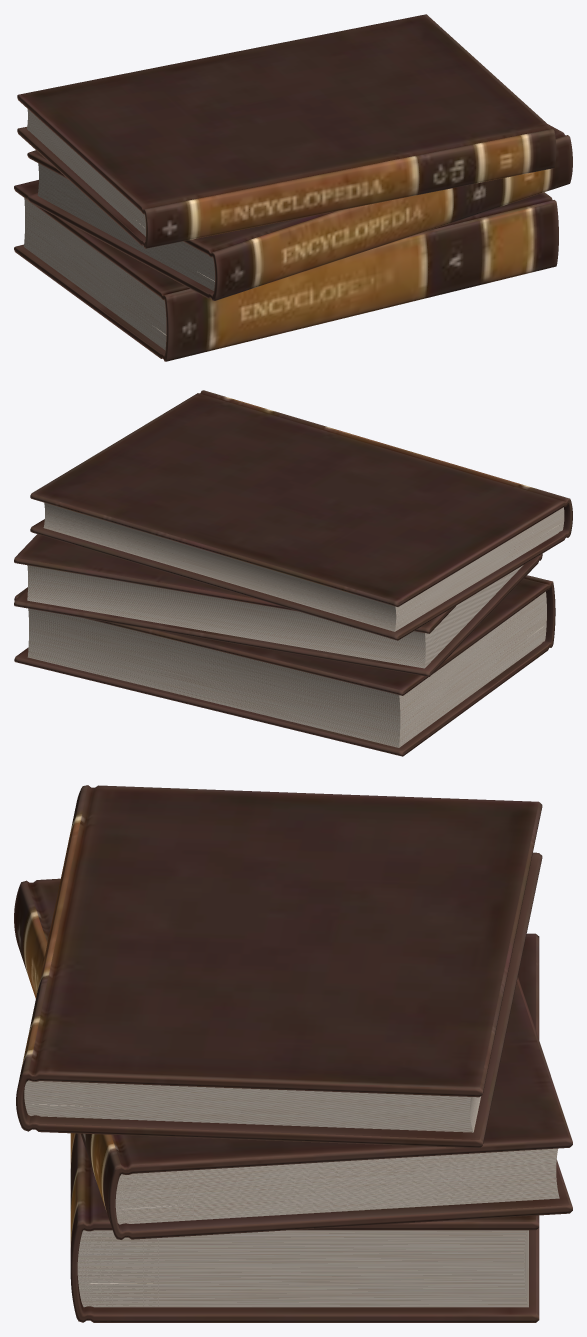
Rendered from book-stack.glb.
3 renders of one model, top to bottom at view 1: azimuth 30°, elevation 25°; view 2: azimuth 150°, elevation 25°; view 3: azimuth 270°, elevation 25°, orthographic. The views are drawn at different scales.
Parts seen in each view (by area): view 1: book_encyclopedia_set_01_book03, book_encyclopedia_set_01_book01, book_encyclopedia_set_01_book02; view 2: book_encyclopedia_set_01_book03, book_encyclopedia_set_01_book01, book_encyclopedia_set_01_book02; view 3: book_encyclopedia_set_01_book03, book_encyclopedia_set_01_book02, book_encyclopedia_set_01_book01.
Boxes of the visible parts, left/top/right/bottom form: book_encyclopedia_set_01_book03: left=17, top=14, right=556, bottom=248; book_encyclopedia_set_01_book01: left=14, top=180, right=558, bottom=361; book_encyclopedia_set_01_book02: left=27, top=124, right=572, bottom=300; book_encyclopedia_set_01_book03: left=30, top=390, right=572, bottom=640; book_encyclopedia_set_01_book01: left=14, top=575, right=555, bottom=756; book_encyclopedia_set_01_book02: left=14, top=534, right=542, bottom=676; book_encyclopedia_set_01_book03: left=16, top=785, right=542, bottom=1148; book_encyclopedia_set_01_book02: left=14, top=878, right=572, bottom=1239; book_encyclopedia_set_01_book01: left=70, top=933, right=539, bottom=1322.
Bounding box in the file's own units: 0.2653 × 0.0905 × 0.1945.
2 materials, 2 textured.
